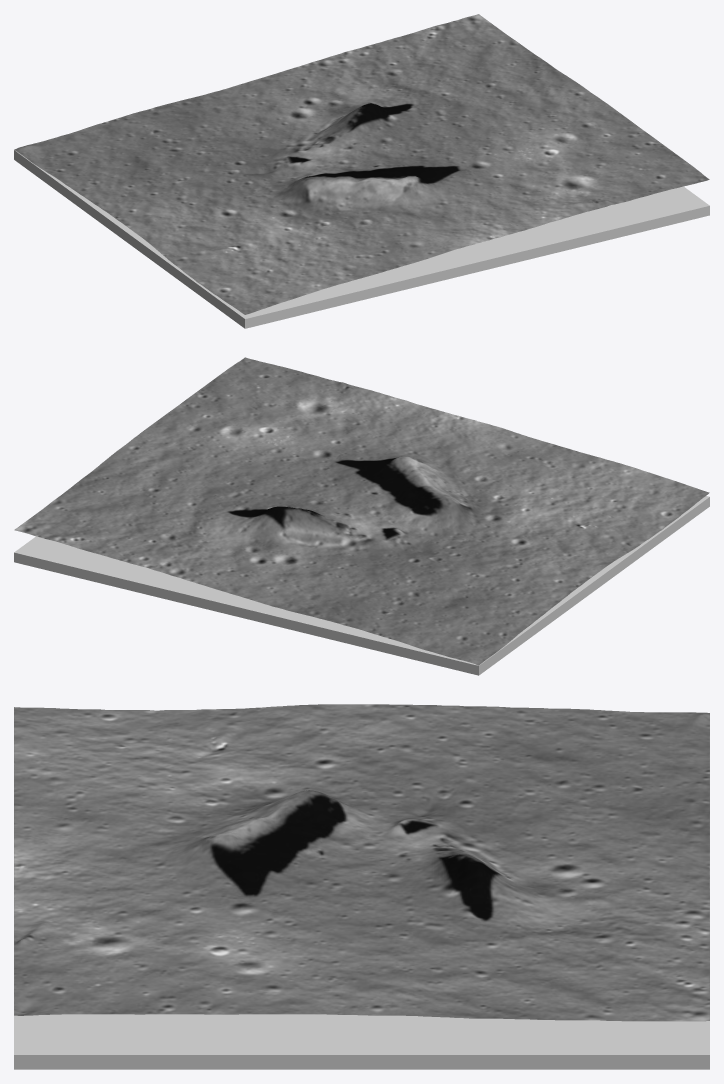
Rendered from smoothed_horizontal_terrain_pm.glb.
3 renders of one model, top to bottom at view 1: azimuth 30°, elevation 25°; view 2: azimuth 150°, elevation 25°; view 3: azimuth 270°, elevation 25°, orthographic. The views are drawn at different scales.
Visible parts, largest first — view 1: Smoothed_Terrain_XZ_horizontal, Base; view 2: Smoothed_Terrain_XZ_horizontal, Base; view 3: Smoothed_Terrain_XZ_horizontal, Base.
Boxes of the visible parts, x1,y1,x2,y2 form: Smoothed_Terrain_XZ_horizontal: (14,14,709,314); Base: (14,150,709,328); Smoothed_Terrain_XZ_horizontal: (14,357,709,665); Base: (14,496,709,675); Smoothed_Terrain_XZ_horizontal: (14,704,709,1021); Base: (14,1014,709,1069).
Bounding box in the file's own units: 1 × 0.0905 × 0.8612.
2 materials, 1 textured.
